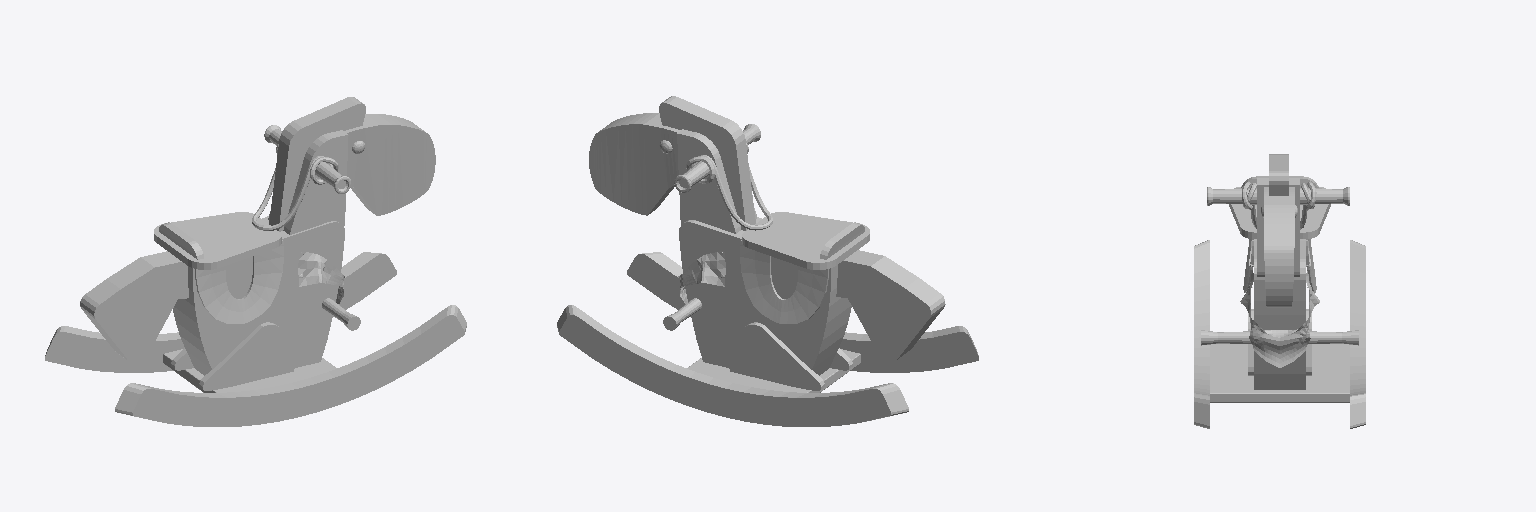
Rendered from horse.obj.
3 views of the same model, side by side, from view 1: azimuth 30°, elevation 25°; view 2: azimuth 150°, elevation 25°; view 3: azimuth 270°, elevation 25° (orthographic).
Visible parts, largest first — view 1: horse6, horse2, horse13, horse, horse8, horse3, horse4, horse7, horse1, horse5, horse12, horse14 (+3 smaller); view 2: horse6, horse2, horse13, horse, horse8, horse3, horse4, horse7, horse1, horse5, horse12, horse14 (+3 smaller); view 3: horse6, horse5, horse2, horse, horse12, horse1, horse8, horse10, horse11, horse3, horse14, horse7.
Part boxes in pixels (x1,y1,x2,y2): horse6: (45,252,466,426); horse2: (173,216,344,375); horse13: (80,251,188,364); horse: (344,114,435,215); horse8: (154,212,281,269); horse3: (269,97,365,231); horse4: (171,322,294,390); horse7: (195,240,283,323); horse1: (268,130,348,234); horse5: (163,349,336,392); horse12: (298,251,344,303); horse14: (252,144,338,230); horse6: (557,252,978,426); horse2: (679,217,851,375); horse13: (836,250,945,363); horse: (589,113,680,215); horse8: (742,212,869,269); horse3: (659,96,755,230); horse4: (729,322,852,390); horse7: (740,240,828,323); horse1: (677,129,756,233); horse5: (687,349,860,392); horse12: (678,251,725,303); horse14: (686,143,772,230); horse6: (1194,240,1365,428); horse5: (1210,344,1349,402); horse2: (1254,239,1305,389); horse: (1264,187,1294,307); horse12: (1240,271,1319,367); horse1: (1257,176,1299,276); horse8: (1229,186,1330,239); horse10: (1207,187,1349,205); horse11: (1201,330,1358,345); horse3: (1269,154,1288,195); horse14: (1242,181,1316,229); horse7: (1243,239,1316,292).
Bounding box in the file's own units: 237 × 169 × 99.67.